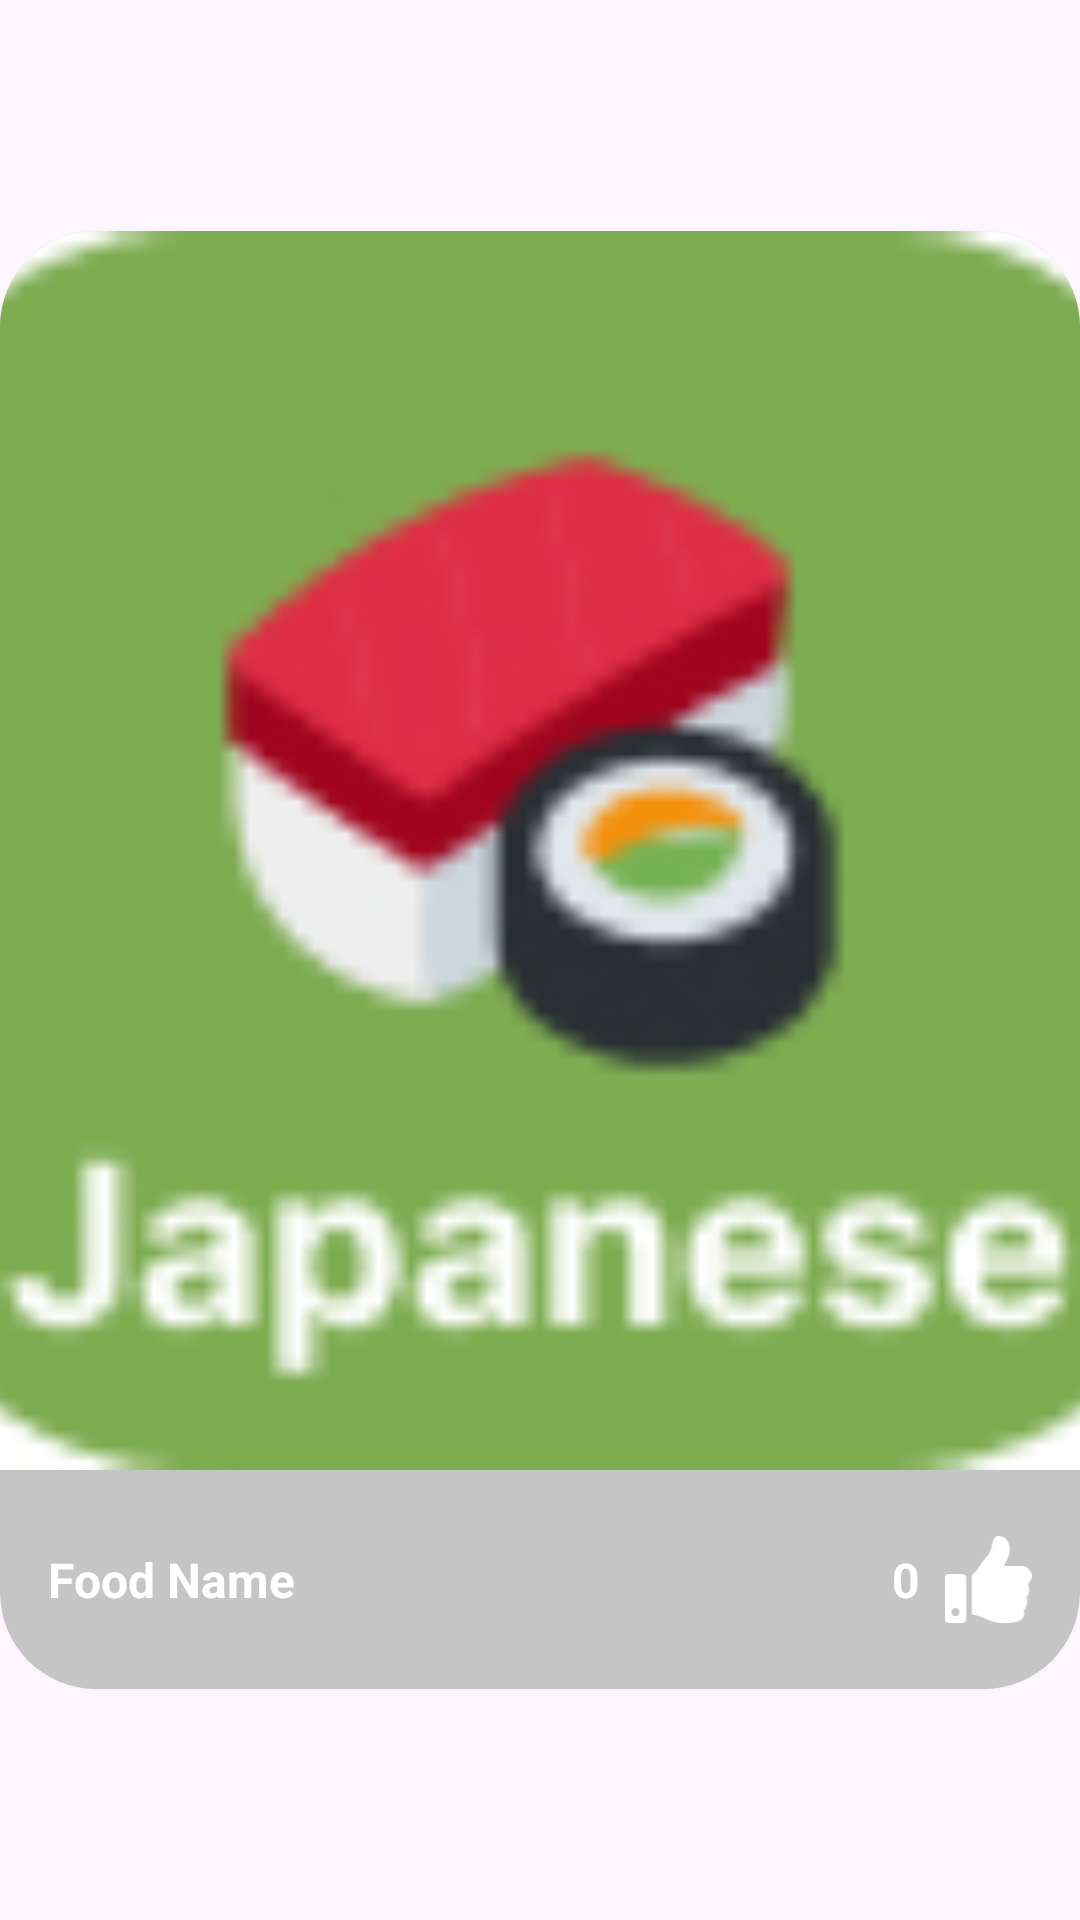

Named icons in this screenshot (1080x1920) and their bounding boxes, (x1, y1, x2, y2):
thumb up: (945, 1536, 1032, 1623)
